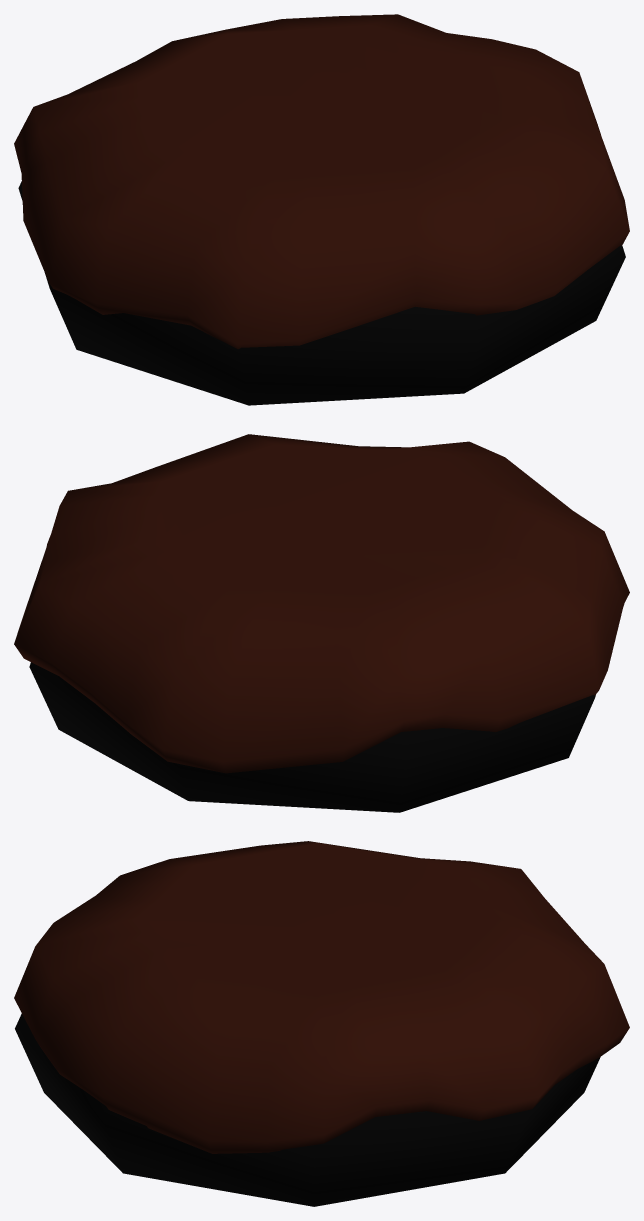
The model's file is Bostom_Kreme.fbx.
3 renders of one model, top to bottom at view 1: azimuth 30°, elevation 25°; view 2: azimuth 150°, elevation 25°; view 3: azimuth 270°, elevation 25°, orthographic. The views are drawn at different scales.
Parts seen in each view (by area): view 1: Donut_Base9; view 2: Donut_Base9; view 3: Donut_Base9.
Boxes of the visible parts, x1,y1,x2,y2 form: Donut_Base9: [14, 14, 629, 405]; Donut_Base9: [14, 434, 629, 812]; Donut_Base9: [14, 841, 629, 1206].
Size of the model in its own units: 3.06 by 1.13 by 3.09.
